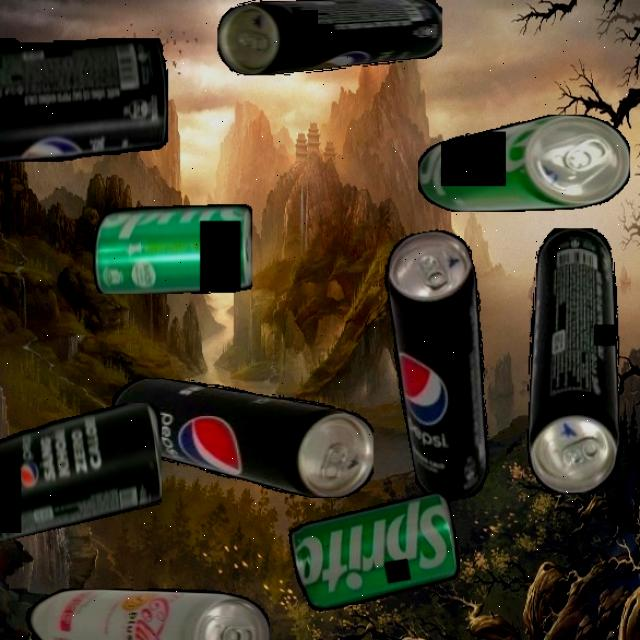debris: (374, 225, 514, 506), (112, 378, 374, 498), (526, 227, 620, 493), (0, 402, 162, 541), (286, 490, 464, 614), (0, 37, 168, 162), (417, 115, 630, 212), (217, 0, 442, 75), (92, 203, 252, 294), (19, 588, 269, 640)
